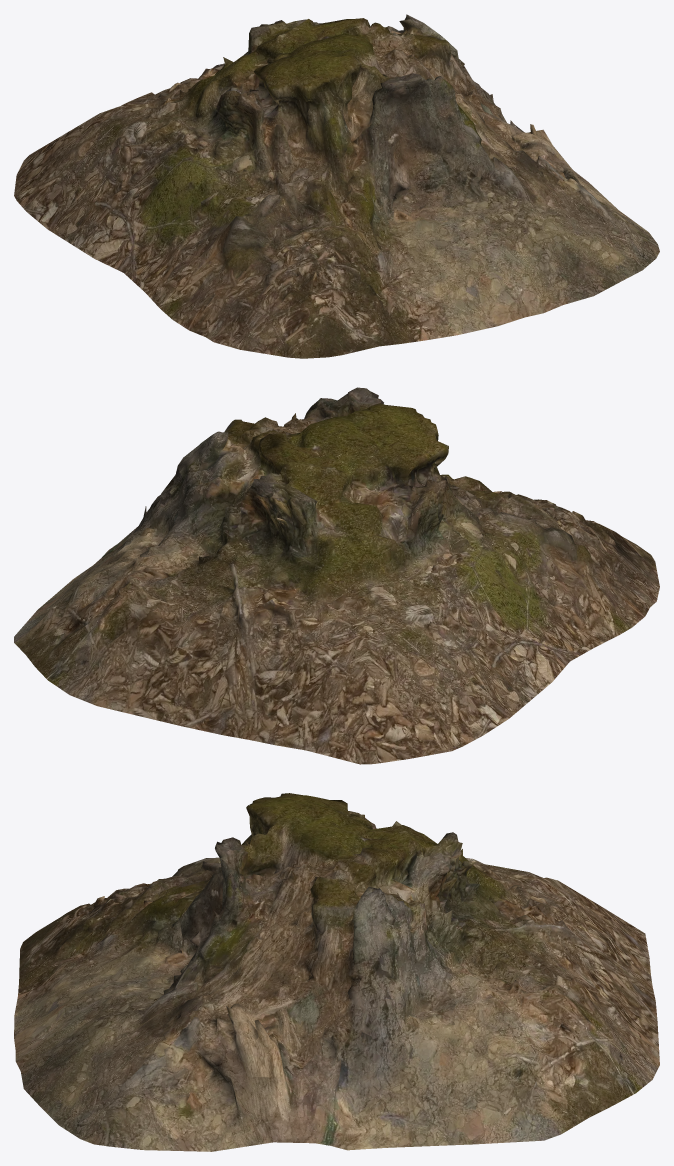
File: ph-tree_stump_01.glb
The picture shows the model from 3 angles, top to bottom: view 1: azimuth 30°, elevation 25°; view 2: azimuth 150°, elevation 25°; view 3: azimuth 270°, elevation 25°; orthographic projection. The views are drawn at different scales.
Visible parts, largest first — view 1: tree_stump_01; view 2: tree_stump_01; view 3: tree_stump_01.
Part boxes in pixels (x1,y1,x2,y2): tree_stump_01: (14, 14, 659, 358); tree_stump_01: (14, 387, 659, 764); tree_stump_01: (14, 793, 659, 1151).
Size of the model in its own units: 1.43 by 0.571 by 1.59.
Materials: 1 (1 with a texture image).
